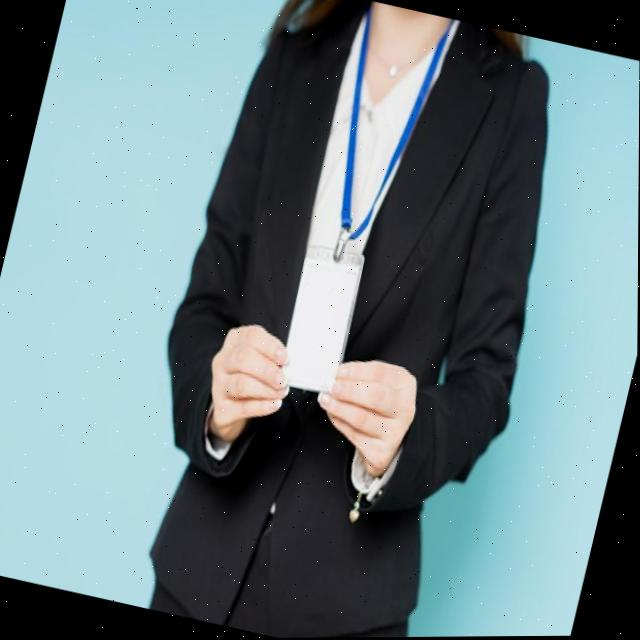id_card: (249, 11, 466, 418)
